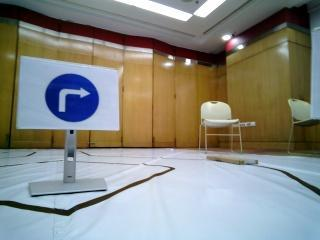right: (22, 56, 119, 132)
